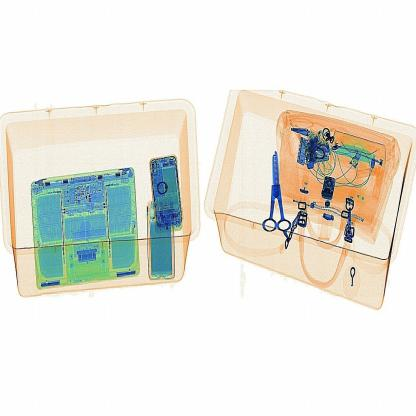gun: (256, 135, 300, 249)
